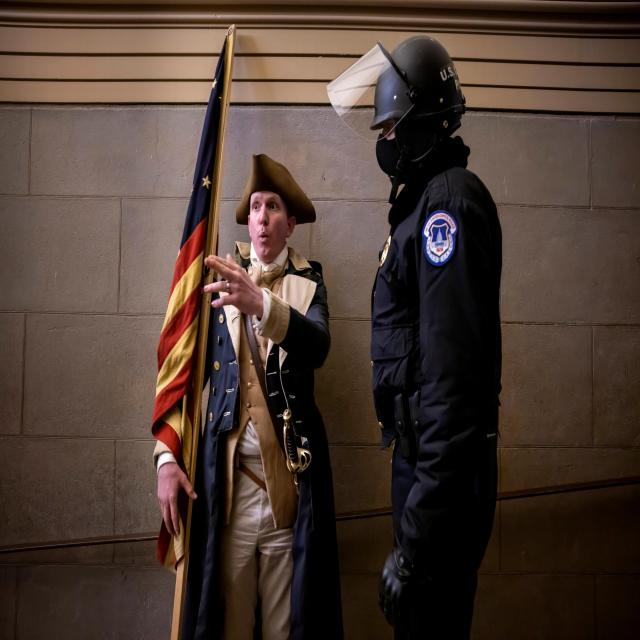police: (318, 33, 528, 640)
